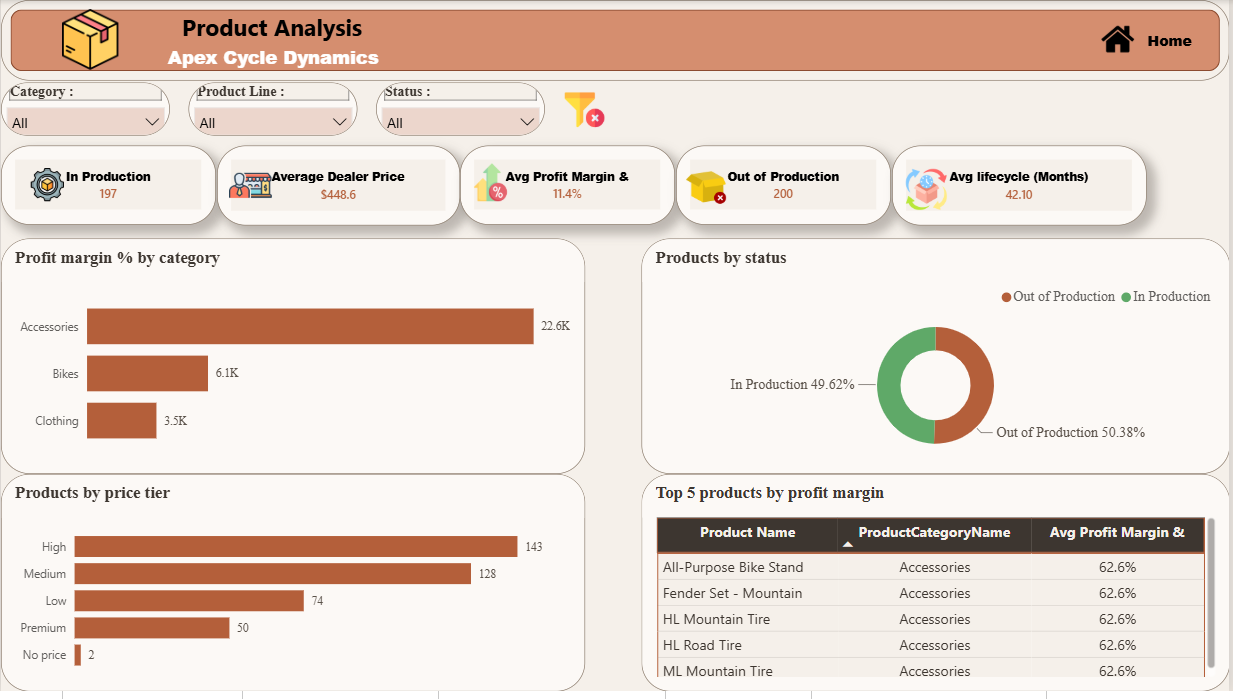

What the dashboard file says about the page in this screenshot:
{"tool":"powerbi","page":{"name":"Product Analysis","canvas":[1280,720],"ordinal":2},"visuals":[{"type":"shape","box":[0,0,1280,84],"z":0},{"type":"image","box":[15,10,154.7,63.2],"z":1000},{"type":"textbox","box":[88,6,390,62],"z":2000},{"type":"textbox","title":"Apex Cycle Dynamics","box":[131.2,41.2,304.7,42.1],"z":3000},{"type":"image","box":[1126,22.9,76.8,34.5],"z":4000},{"type":"textbox","box":[1180.9,26,72.3,42.6],"z":5000},{"type":"slicer","fields":{"Values":["DimReseller.ResellerName"]},"box":[0,86.2,176.2,55],"z":6000},{"type":"slicer","fields":{"Values":["DimProduct.ProductLine"]},"box":[195,86.7,176.2,55],"z":7000},{"type":"slicer","fields":{"Values":["DimProduct.Status"]},"box":[390,86.7,176.2,55],"z":8000},{"type":"cardVisual","title":"Total sales","fields":{"Data":["_Measures.In Production Count"]},"box":[0,151.2,224.3,82.9],"z":9000},{"type":"cardVisual","title":"Total sales","fields":{"Data":["_Measures.Average Dealer Price"]},"box":[225,151.7,253.3,83.3],"z":10000},{"type":"cardVisual","title":"Avg Profit Margin &","fields":{"Data":["_Measures.Overall Profit Margin %"]},"box":[478.3,151.7,224.3,82.9],"z":11000},{"type":"cardVisual","title":"Total sales","fields":{"Data":["_Measures.Out of Production %"]},"box":[703.3,151.7,224.3,82.9],"z":12000},{"type":"cardVisual","title":"Total sales","fields":{"Data":["_Measures.Avg Lifecycle Out of Production (Months)"]},"box":[928.3,151.7,265,83.3],"z":13000},{"type":"image","box":[576.7,93.3,62.6,41.2],"z":14000},{"type":"clusteredBarChart","title":"Profit margin % by category","fields":{"Category":["DimProductCategory.ProductCategoryName"],"Y":["Sum(FactInternetSales.Profit Margin %)"]},"box":[0,248.3,608.3,245],"z":15000},{"type":"donutChart","title":"Products by status","fields":{"Category":["DimProduct.Status"],"Y":["DimProductSubcategory.Subcategory Product Count"]},"box":[666.7,248.3,613.3,245],"z":16000},{"type":"clusteredBarChart","title":"Products by price tier","fields":{"Y":["DimProductSubcategory.Subcategory Product Count"],"Category":["DimProduct.Price Tier"]},"box":[0,493.3,608.3,226.7],"z":17000},{"type":"tableEx","title":"Top 5 products by profit margin","fields":{"Values":["DimProduct.Product Name","DimProductCategory.ProductCategoryName","_Measures.Overall Profit Margin %"]},"box":[666.7,493.3,613.3,226.7],"z":18000},{"type":"image","box":[15.5,175.5,65.5,34.5],"z":19000},{"type":"image","box":[238.2,170,44.5,45.5],"z":20000},{"type":"image","box":[485.5,170.9,48.2,39.1],"z":21000},{"type":"image","box":[696.4,171.8,75.5,44.5],"z":22000},{"type":"image","box":[916.4,175.5,96.4,44.5],"z":23000}]}

Visuals, with their boxes in screenshot pixels (x1, y1, x2, y2), scaled from the page's 1280x720 canvas onto the 1233x699 screenshot:
shape: region(0, 0, 1232, 82)
image: region(14, 10, 163, 71)
textbox: region(85, 6, 460, 66)
"Apex Cycle Dynamics" textbox: region(126, 40, 420, 81)
image: region(1085, 22, 1159, 56)
textbox: region(1138, 25, 1207, 67)
slicer - DimReseller.ResellerName: region(0, 84, 170, 137)
slicer - DimProduct.ProductLine: region(188, 84, 358, 138)
slicer - DimProduct.Status: region(376, 84, 545, 138)
"Total sales" cardVisual: region(0, 147, 216, 227)
"Total sales" cardVisual: region(217, 147, 461, 228)
"Avg Profit Margin &" cardVisual: region(461, 147, 677, 228)
"Total sales" cardVisual: region(677, 147, 894, 228)
"Total sales" cardVisual: region(894, 147, 1149, 228)
image: region(556, 91, 616, 131)
"Profit margin % by category" clusteredBarChart: region(0, 241, 586, 479)
"Products by status" donutChart: region(642, 241, 1232, 479)
"Products by price tier" clusteredBarChart: region(0, 479, 586, 698)
"Top 5 products by profit margin" tableEx: region(642, 479, 1232, 698)
image: region(15, 170, 78, 204)
image: region(229, 165, 272, 209)
image: region(468, 166, 514, 204)
image: region(671, 167, 744, 210)
image: region(883, 170, 976, 214)
